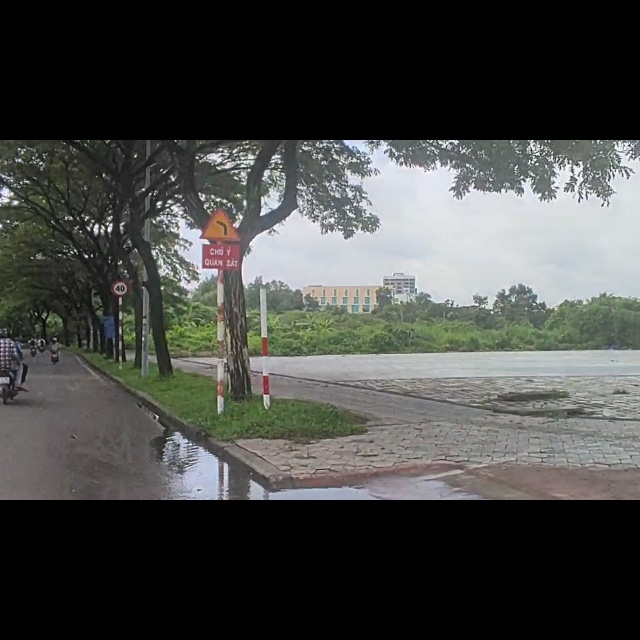bien_nguy_hiem: (198, 119, 245, 180), (110, 247, 132, 277)
